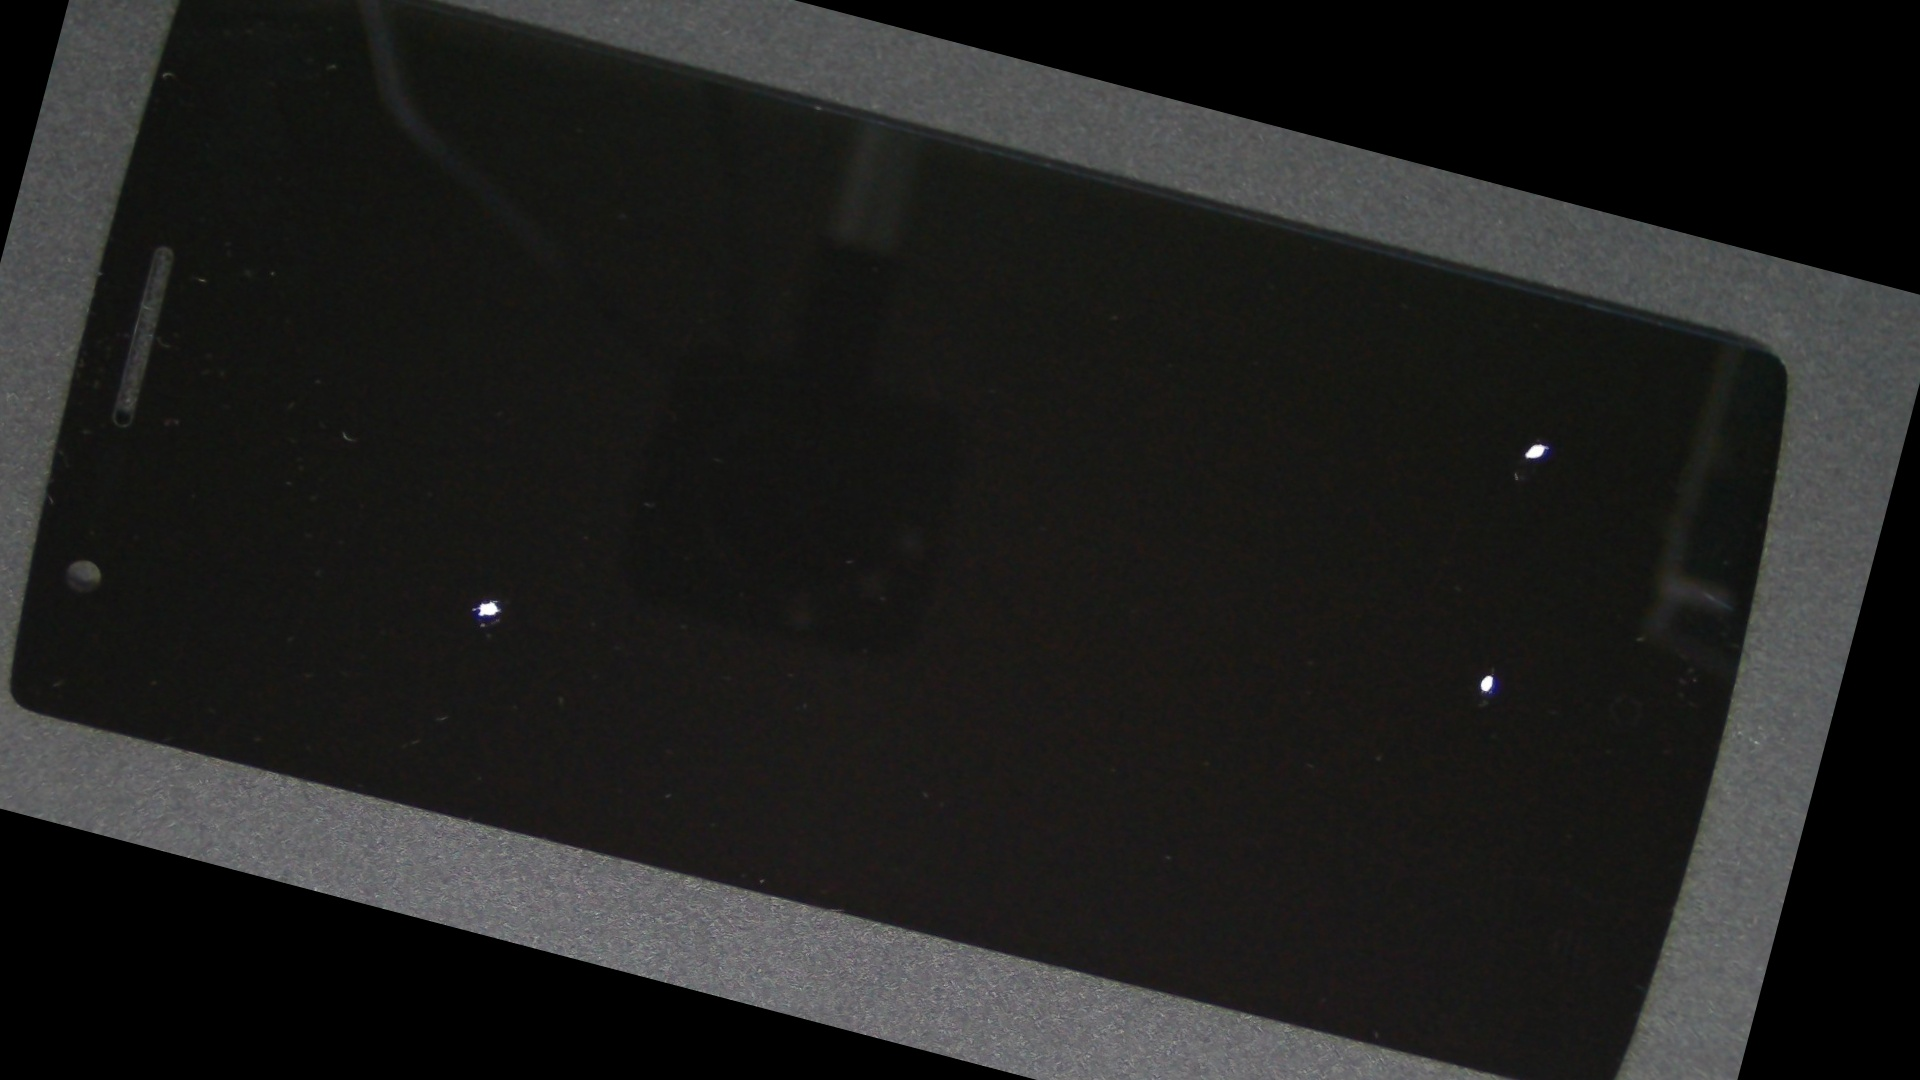oil: (682, 248, 1882, 992), (766, 132, 1911, 650), (141, 211, 853, 989), (144, 220, 860, 990), (136, 222, 837, 985)
